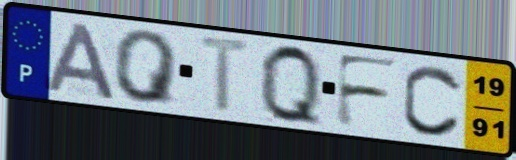A: (42, 19, 120, 102)
C: (400, 63, 465, 140)
F: (333, 51, 403, 130)
Q: (257, 40, 325, 131), (112, 29, 182, 108)
T: (196, 33, 256, 116)
